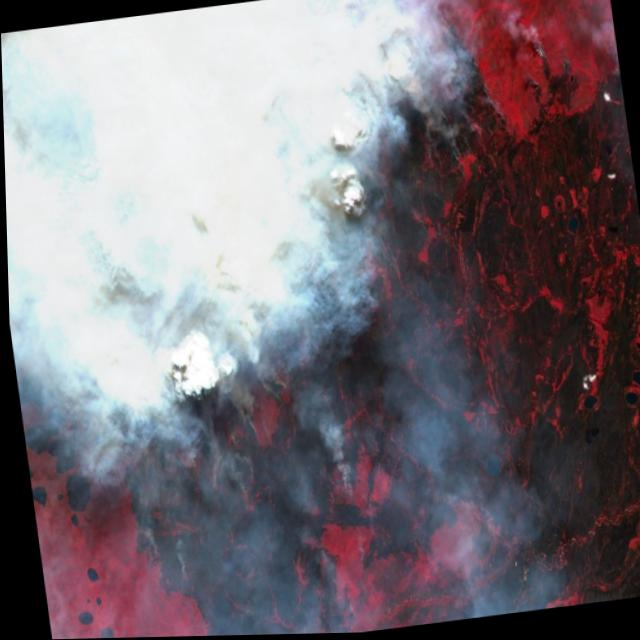fire: (49, 0, 640, 639)
